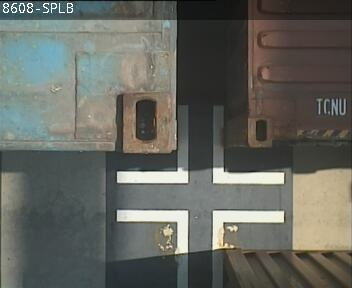groundmarker_1: (114, 210, 284, 288), (116, 106, 286, 183)
